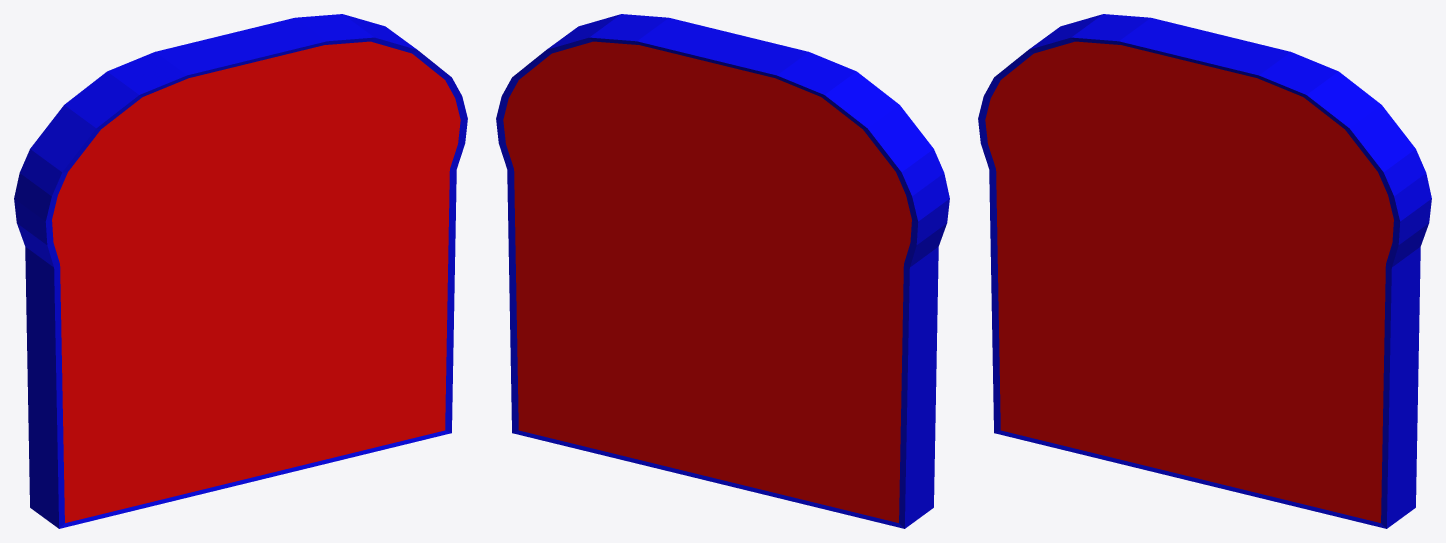
File: tranche-pain.fbx
The picture shows the model from 3 angles, left to right: view 1: azimuth 30°, elevation 25°; view 2: azimuth 150°, elevation 25°; view 3: azimuth 330°, elevation 25°; orthographic projection.
Visible parts, largest first — view 1: tranche-pain; view 2: tranche-pain; view 3: tranche-pain.
Part boxes in pixels (x1=…): tranche-pain: x1=14, y1=14, x2=467, y2=528; tranche-pain: x1=496, y1=14, x2=949, y2=528; tranche-pain: x1=978, y1=14, x2=1431, y2=528.
Size of the model in its own units: 421 by 404 by 55.7.
